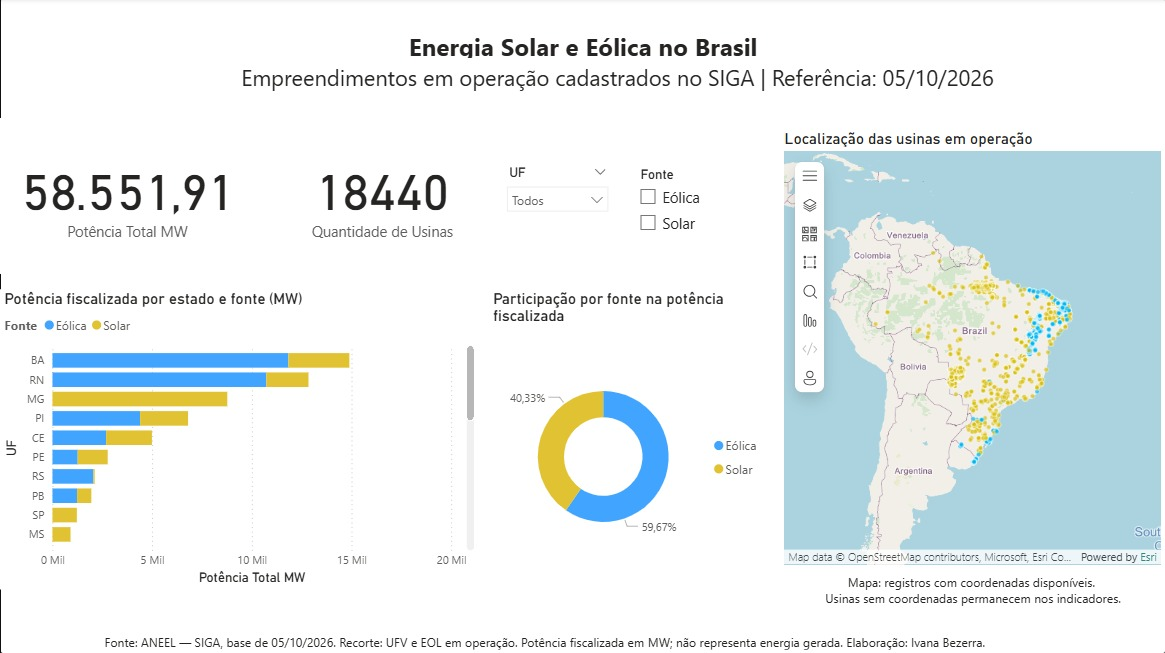

The dashboard page shown, as its layout file describes it:
{"tool":"powerbi","page":{"name":"Usinas","canvas":[1280,720],"ordinal":0},"visuals":[{"type":"card","fields":{"Values":["usinas_operacao.Potência Total MW"]},"box":[0,131.7,279.9,171.5],"z":0},{"type":"card","fields":{"Values":["usinas_operacao.Quantidade de Usinas"]},"box":[279.9,131.7,279.9,171.5],"z":1000},{"type":"barChart","title":"Potência fiscalizada por estado e fonte (MW)","fields":{"Category":["usinas_operacao.UF"],"Y":["usinas_operacao.Potência Total MW"],"Series":["usinas_operacao.Fonte"]},"box":[0,319.7,525.6,329.3],"z":2000},{"type":"slicer","fields":{"Values":["usinas_operacao.UF"]},"box":[546.1,179,131.7,86.4],"z":3000},{"type":"slicer","fields":{"Values":["usinas_operacao.Fonte"]},"box":[690.2,179.4,150.9,100.2],"z":4000},{"type":"donutChart","title":"Participação por fonte na potência fiscalizada","fields":{"Category":["usinas_operacao.Fonte"],"Y":["usinas_operacao.Potência Total MW"]},"box":[536.5,319.7,308.7,329.3],"z":5000},{"type":"textbox","box":[109.8,693,1003.1,27.4],"z":8000},{"type":"esriVisual","title":"Localização das usinas em operação","fields":{"Latitude":["usinas_operacao.Latitude"],"Longitude":["usinas_operacao.Longitude"],"Color":["usinas_operacao.Fonte"]},"box":[856.3,144.1,424,483],"z":9000},{"type":"textbox","box":[856.3,627.1,424,46.7],"z":10000},{"type":"textbox","box":[381.5,30.2,517.3,49.4],"z":10001},{"type":"textbox","box":[223.7,65.9,908.4,49.4],"z":10002}]}

Visuals, with their boxes in screenshot pixels (x1, y1, x2, y2), scaled from the page's 1280x720 canvas onto the 1165x653 screenshot:
card - usinas_operacao.Potência Total MW: 0 119 255 275
card - usinas_operacao.Quantidade de Usinas: 255 119 510 275
"Potência fiscalizada por estado e fonte (MW)" barChart: 0 290 478 589
slicer - usinas_operacao.UF: 497 162 617 241
slicer - usinas_operacao.Fonte: 628 163 766 254
"Participação por fonte na potência fiscalizada" donutChart: 488 290 769 589
textbox: 100 629 1013 652
"Localização das usinas em operação" esriVisual: 779 131 1164 569
textbox: 779 569 1164 611
textbox: 347 27 818 72
textbox: 204 60 1030 105
